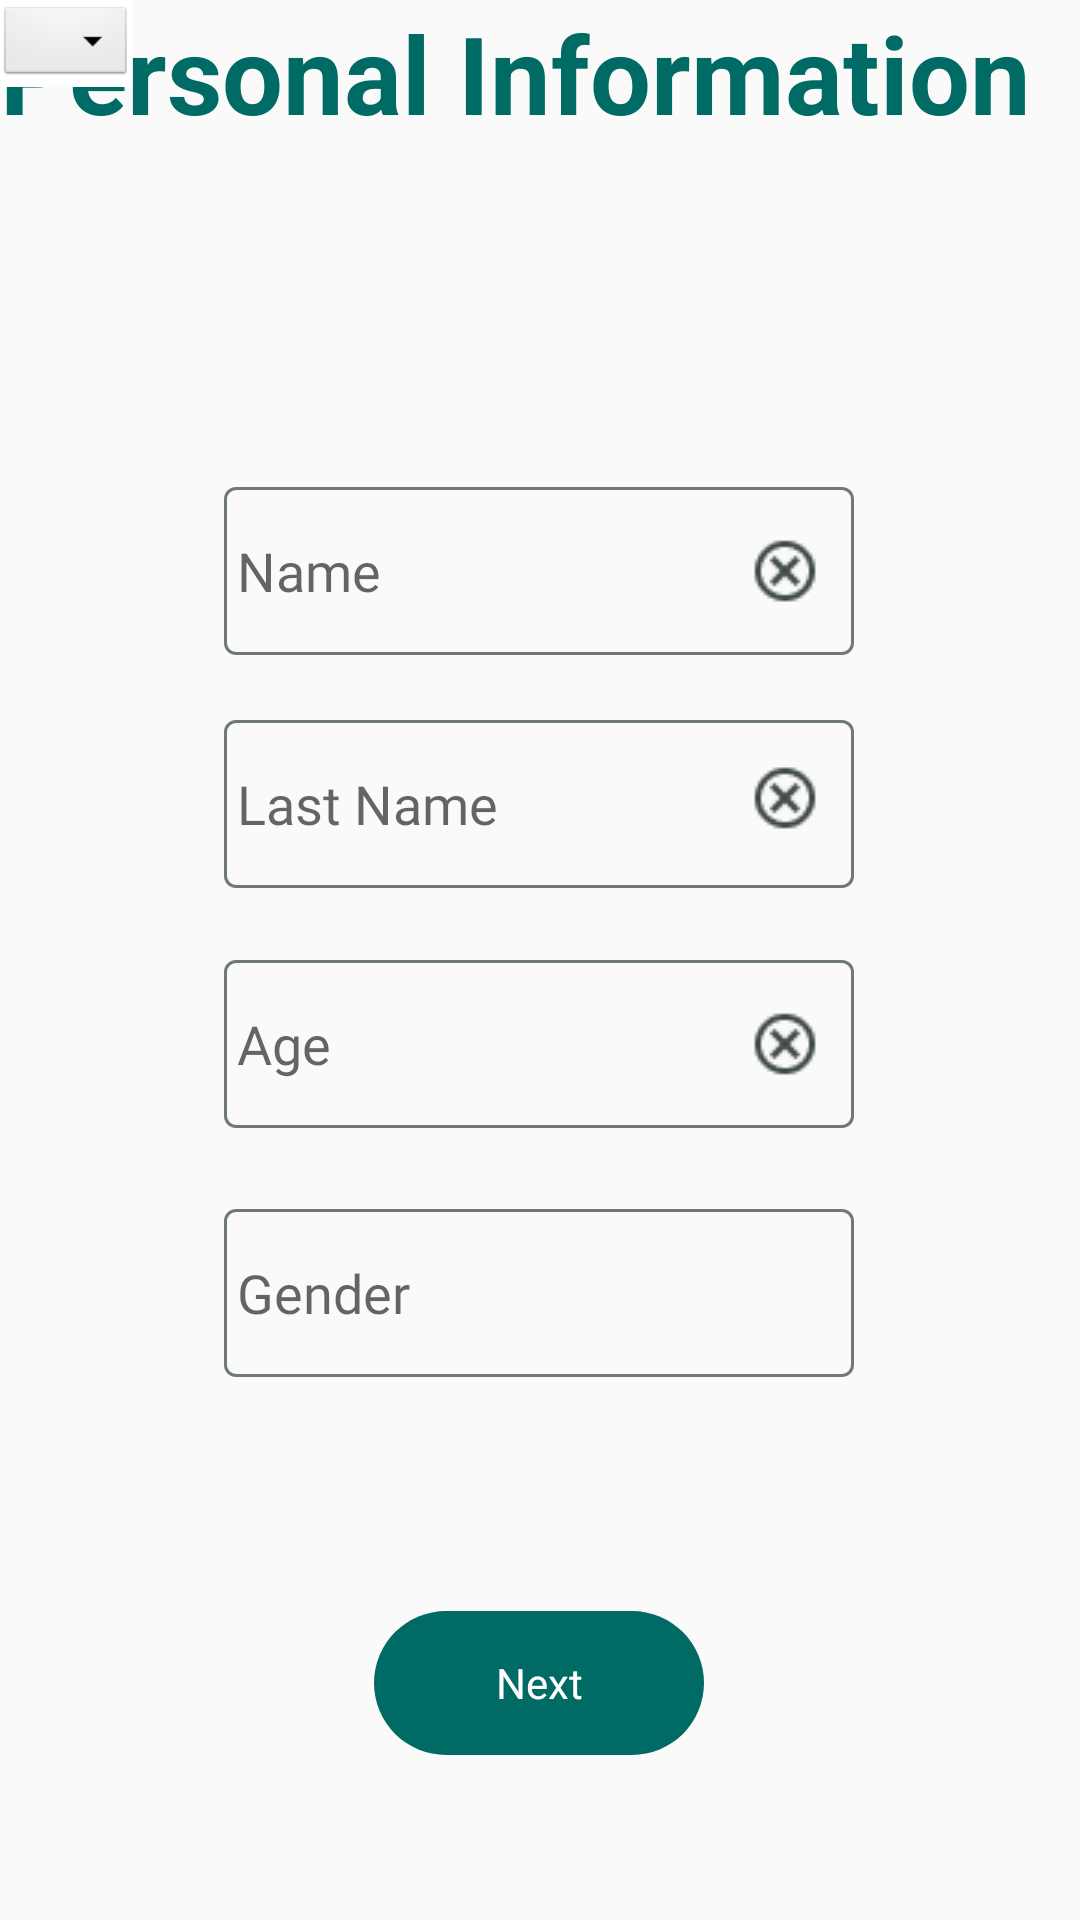

Icon click points for this 1080px x 1920px phone screenshot, format (x=x, y=y):
dropdown: (x=65, y=41)
